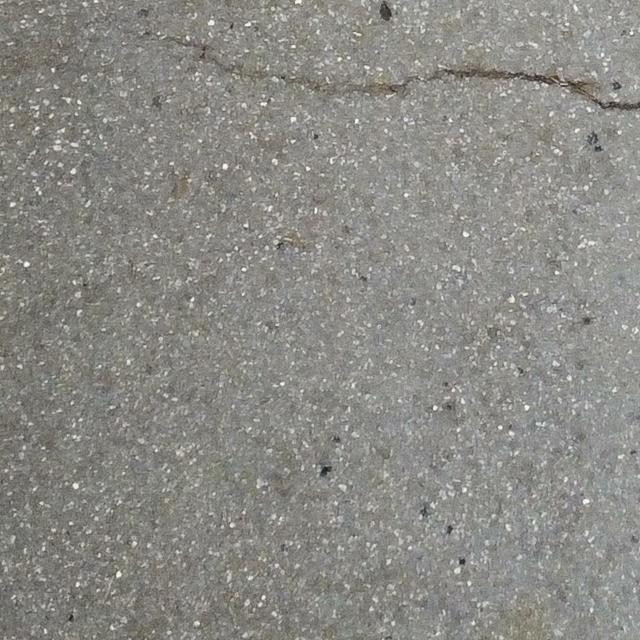TransverseCrack: (156, 31, 640, 112)
